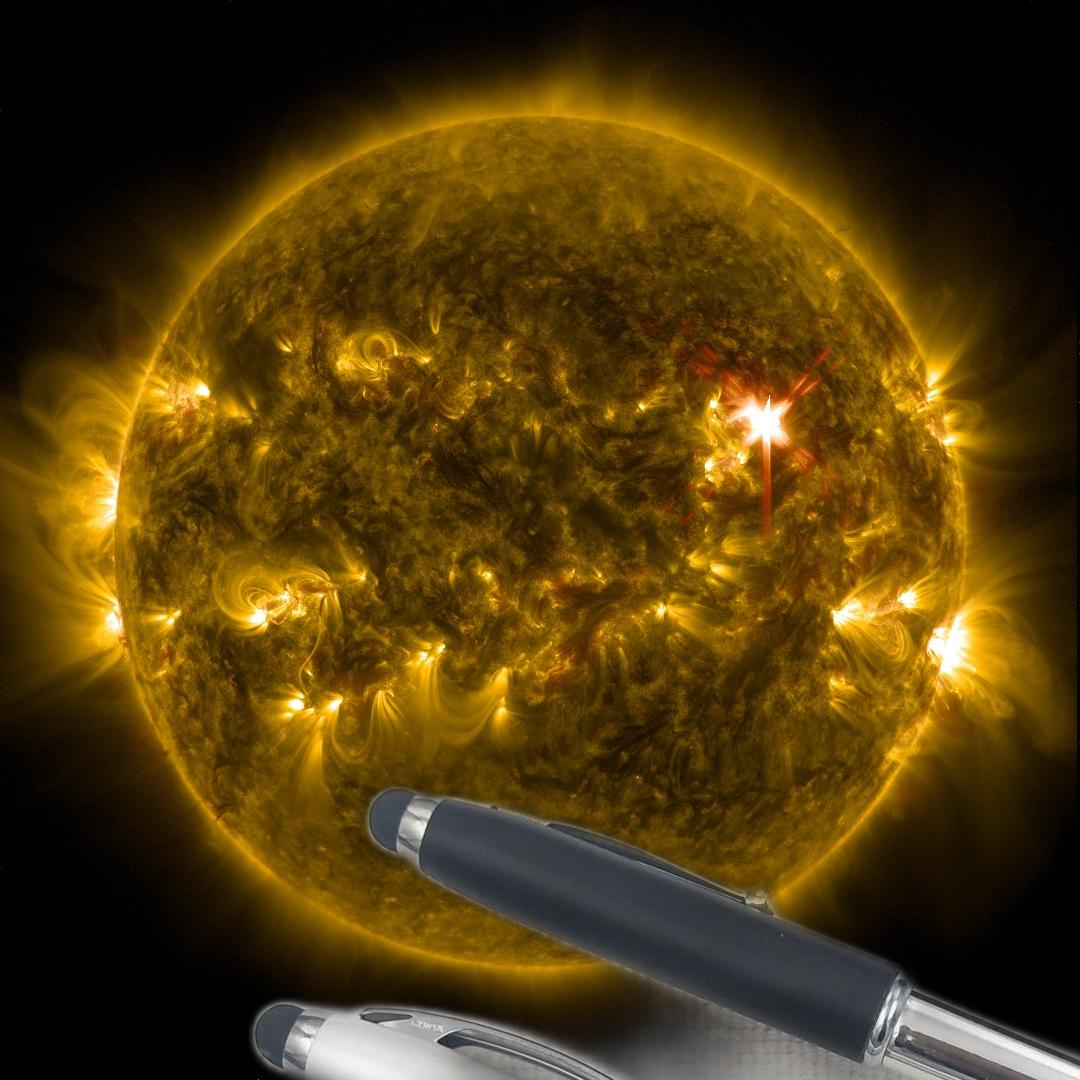penholder: (33, 772, 1080, 1080)
